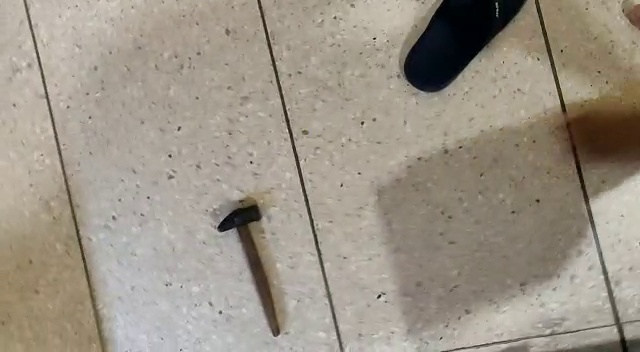hammer: (215, 204, 289, 337)
